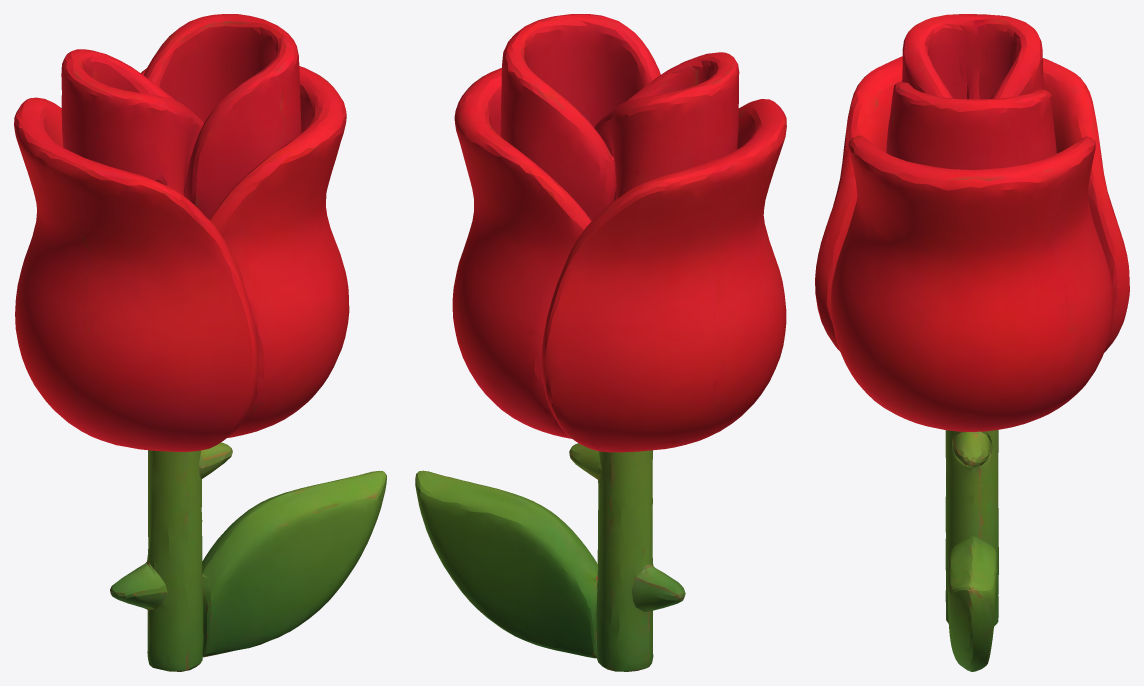
The model's file is rose.glb.
3 views of the same model, side by side, from view 1: azimuth 30°, elevation 25°; view 2: azimuth 150°, elevation 25°; view 3: azimuth 270°, elevation 25° (orthographic). The views are drawn at different scales.
Parts seen in each view (by area): view 1: Mesh; view 2: Mesh; view 3: Mesh.
Part boxes in pixels (x1,y1,x2,y2): Mesh: (14,14,386,671); Mesh: (415,14,786,671); Mesh: (815,14,1129,671).
Bounding box in the file's own units: 0.6036 × 1 × 0.5015.
1 material, 1 textured.
